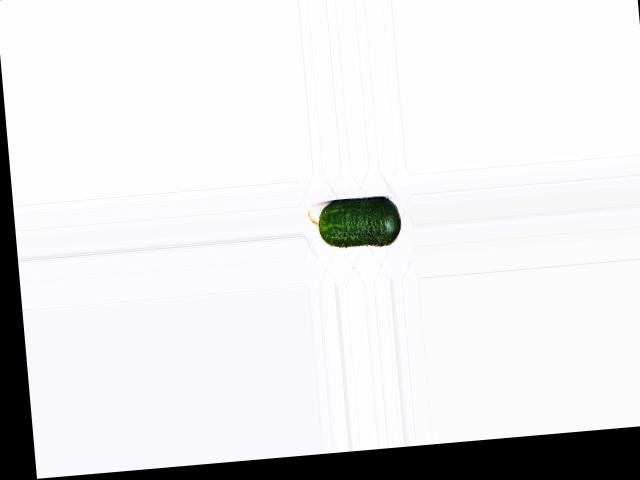cucumber: (307, 195, 402, 251)
